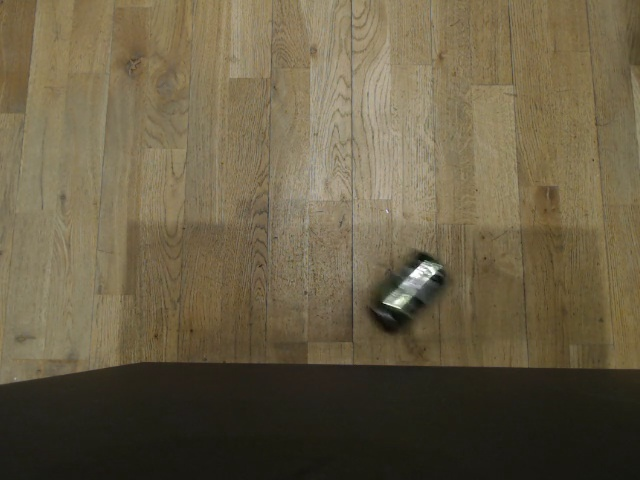beer: (364, 249, 451, 336)
